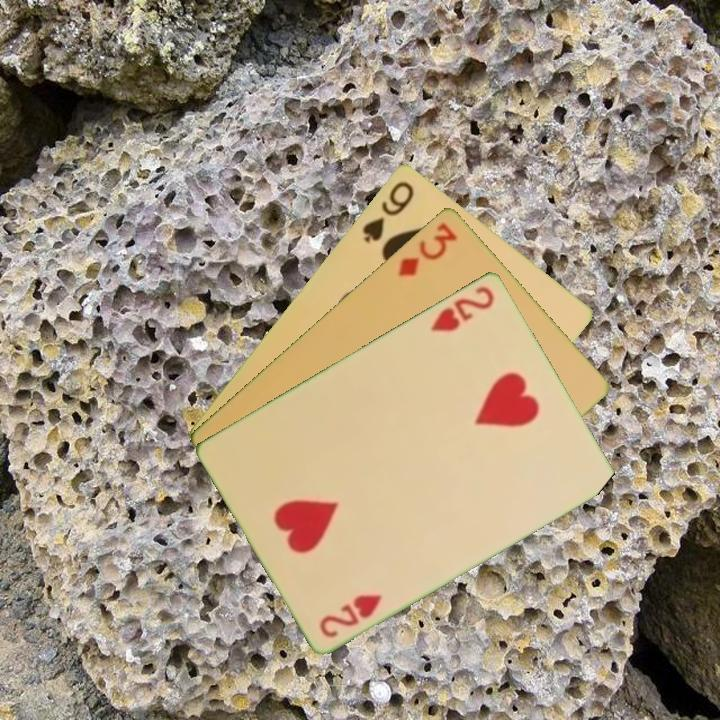2h: (427, 281, 497, 334), (316, 590, 385, 640)
3d: (395, 217, 461, 279)
9s: (358, 177, 417, 246)
